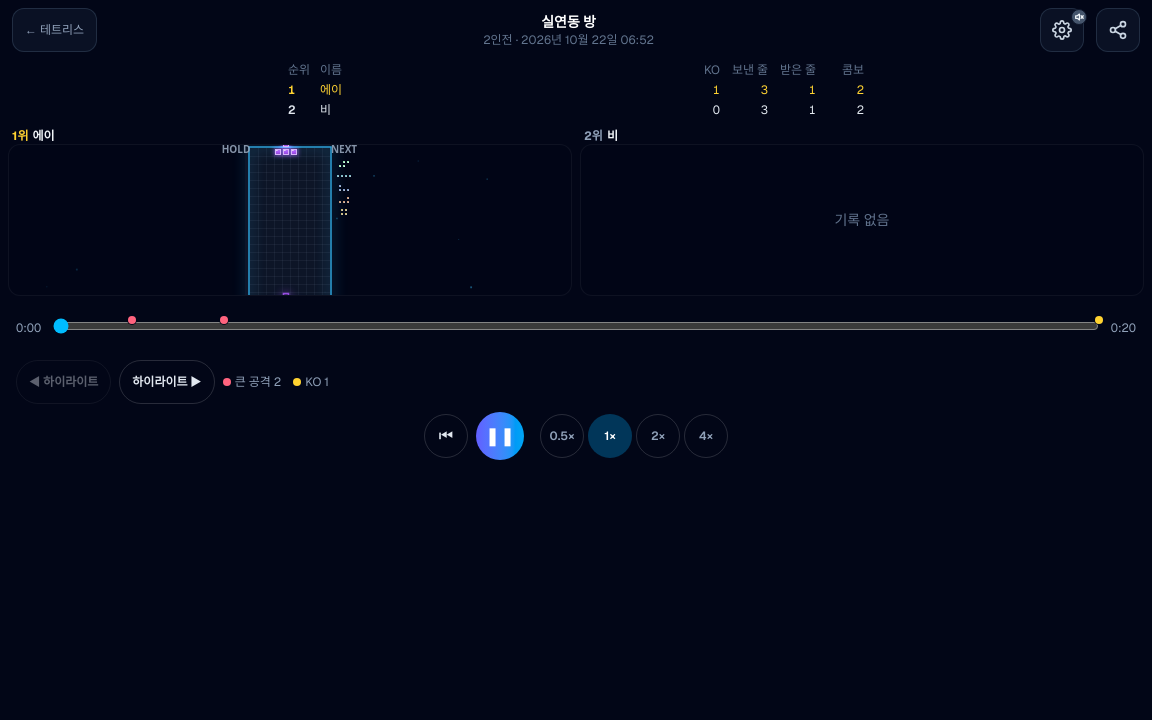
Test: 대전 경기 페이지 (DESIGN §18) › 다시보기 연출 — 소리·공격 궤적 (games-polish P7) › 크게 보기 중이면 보낸 판이 숨어 있어 궤적 없이 "+N"만
Expected: the button named "일시정지" is enabled, [476,412,524,460]
Click the button named "에이 화면 크게 보기" at (290, 220), box [8,144,572,296]
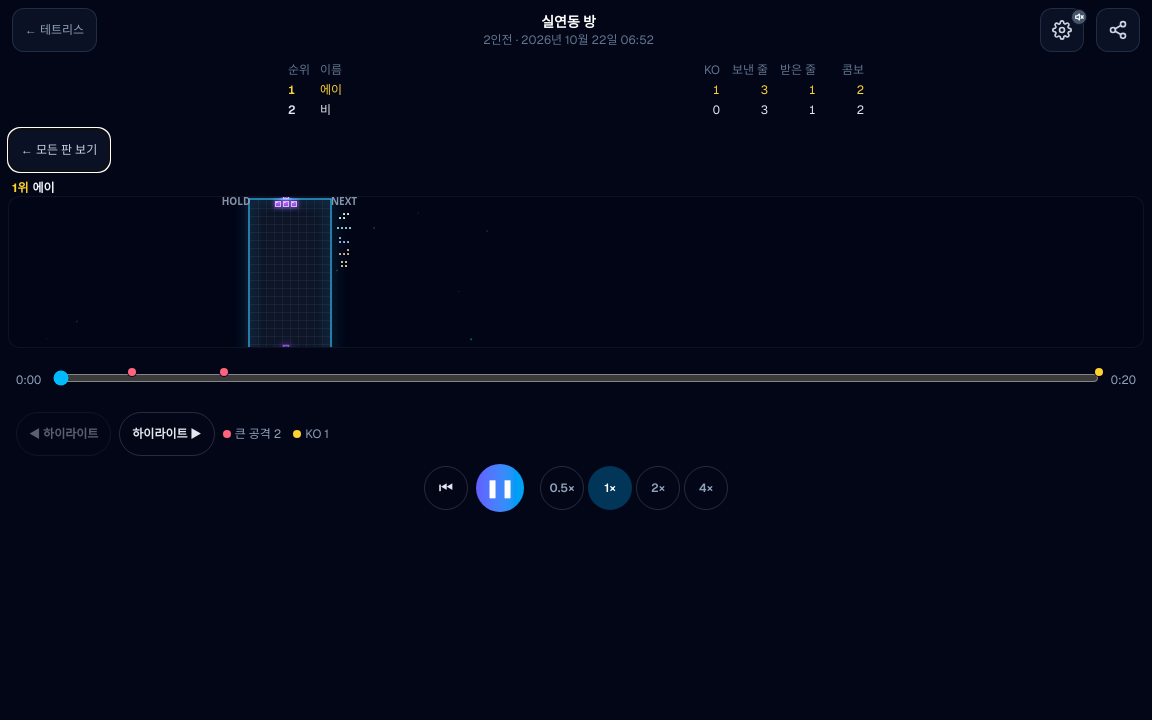
Set the slider named "재생 위치" to "280" at (301, 378), box [53,356,1099,400]
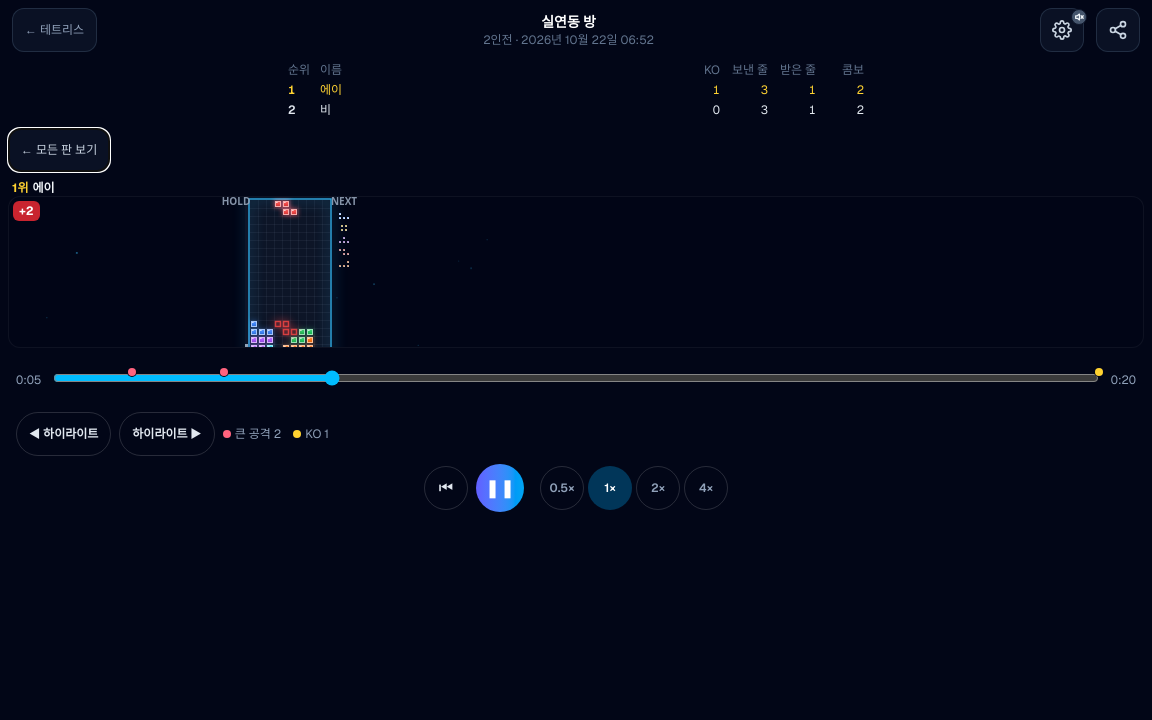
Now the element "1위 에이" shows "+2", box [8,180,1144,348]
